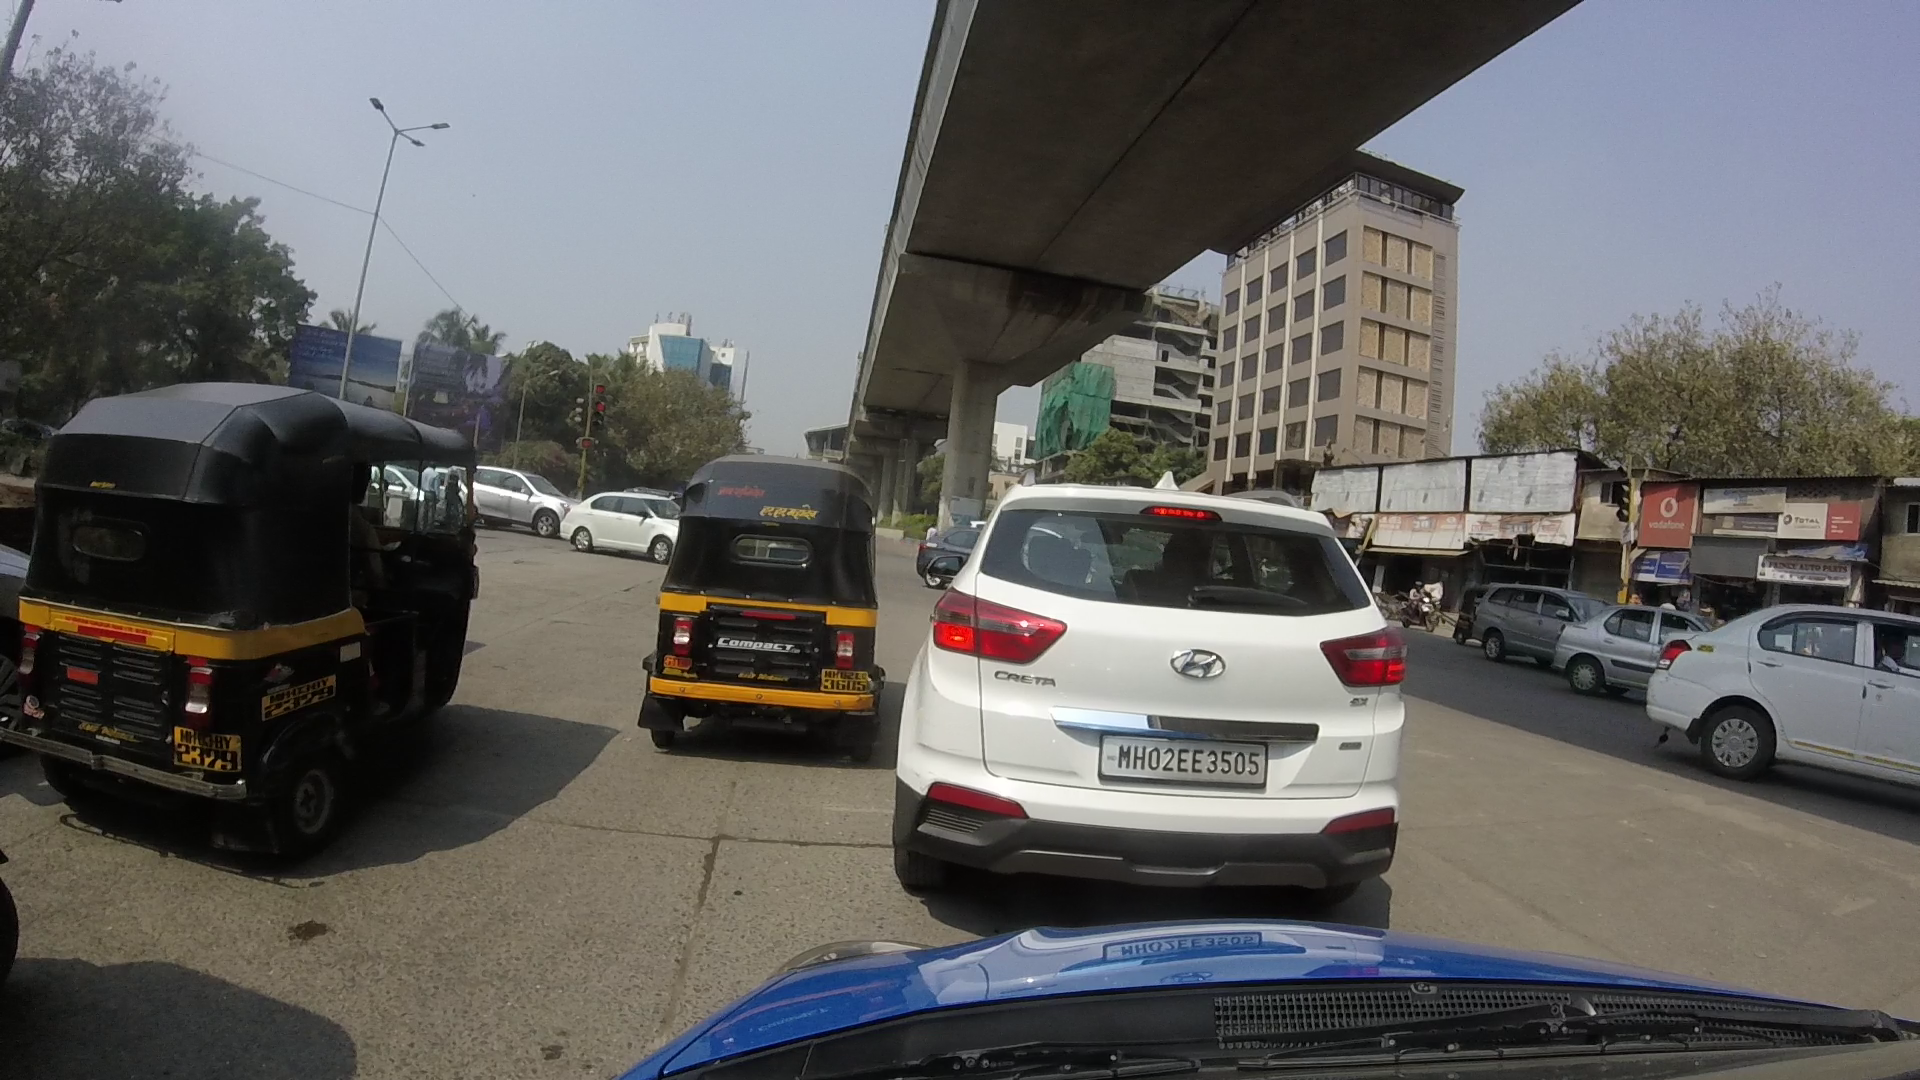car: (905, 481, 1436, 887), (1648, 575, 1920, 815), (1530, 582, 1695, 719), (1465, 525, 1582, 684), (556, 472, 688, 556)
rickshaw: (24, 353, 539, 855), (640, 448, 901, 745)
